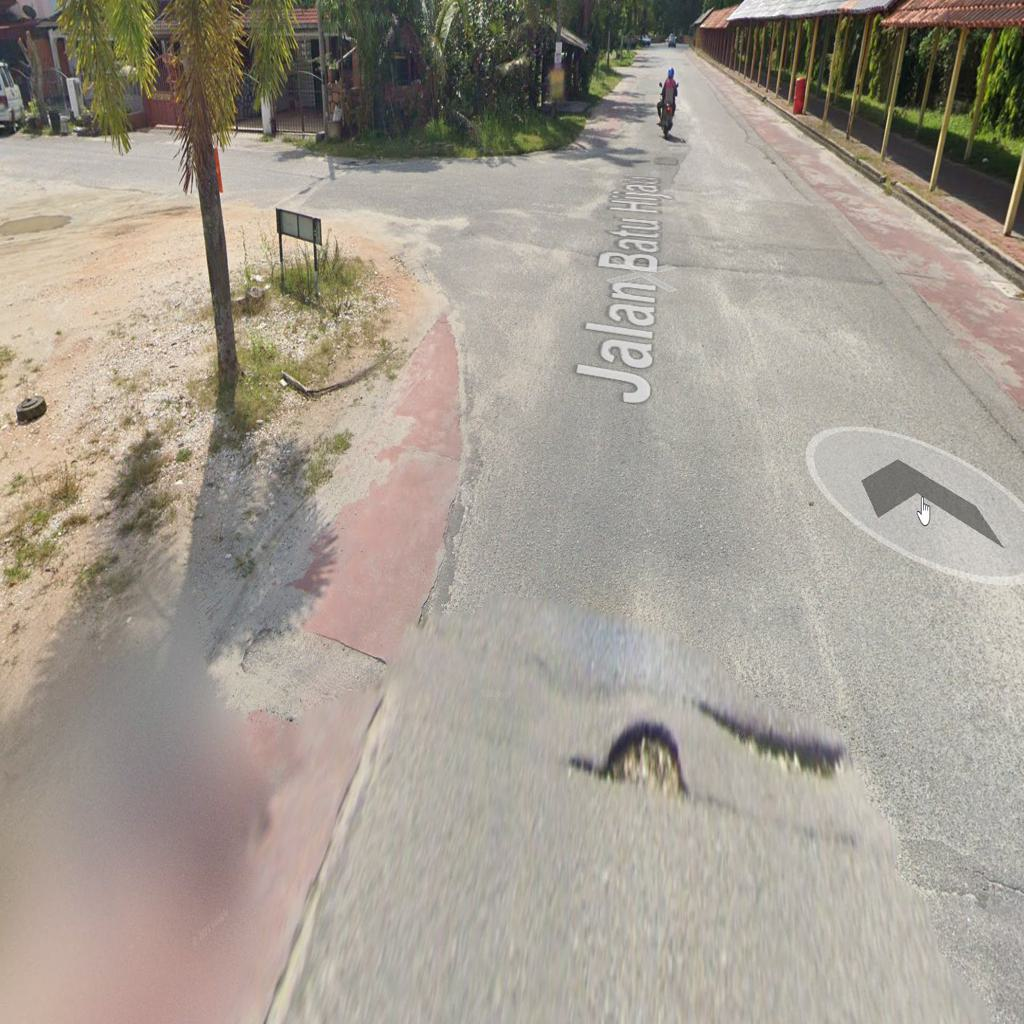Junction: (228, 100, 636, 499)
